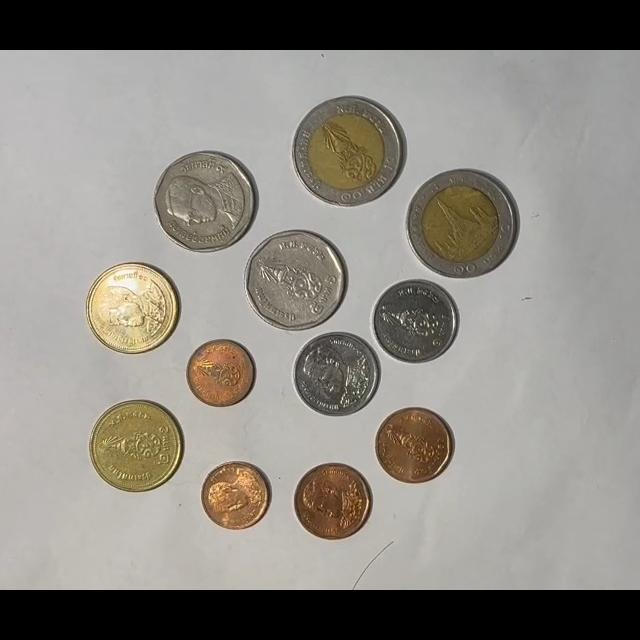1-baht: (292, 332, 380, 417), (371, 279, 458, 364)
10-baht: (292, 96, 406, 208), (406, 169, 518, 278)
2-baht: (89, 400, 184, 493), (86, 263, 178, 356)
25-satang: (201, 461, 272, 531), (186, 339, 255, 407)
5-baht: (154, 151, 258, 253), (245, 229, 346, 332)
50-satang: (293, 462, 372, 540), (375, 407, 454, 484)
